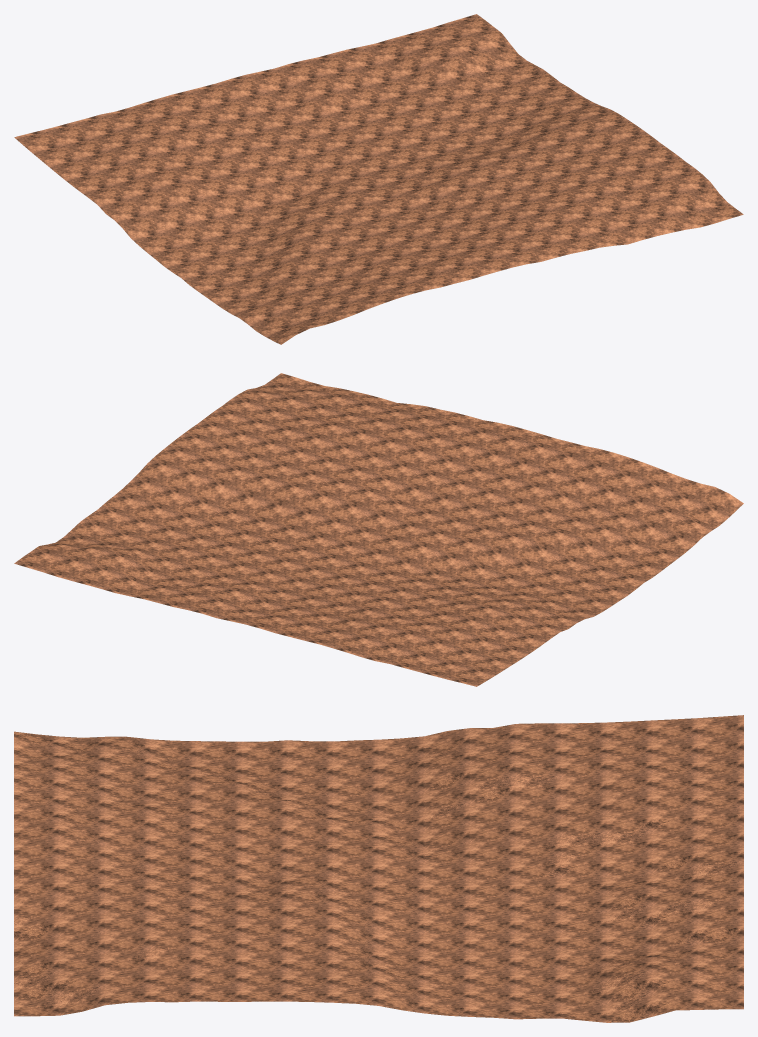
The model's file is terrain_07_20.dae.
3 views of the same model, one above another, from view 1: azimuth 30°, elevation 25°; view 2: azimuth 150°, elevation 25°; view 3: azimuth 270°, elevation 25° (orthographic). The views are drawn at different scales.
Parts seen in each view (by area): view 1: terrain_07_20-node; view 2: terrain_07_20-node; view 3: terrain_07_20-node.
Boxes of the visible parts, x1,y1,x2,y2 form: terrain_07_20-node: [14, 14, 743, 344]; terrain_07_20-node: [14, 373, 743, 686]; terrain_07_20-node: [14, 715, 743, 1022].
Size of the model in its own units: 128 by 128 by 9.42.
Materials: 1 (1 with a texture image).
